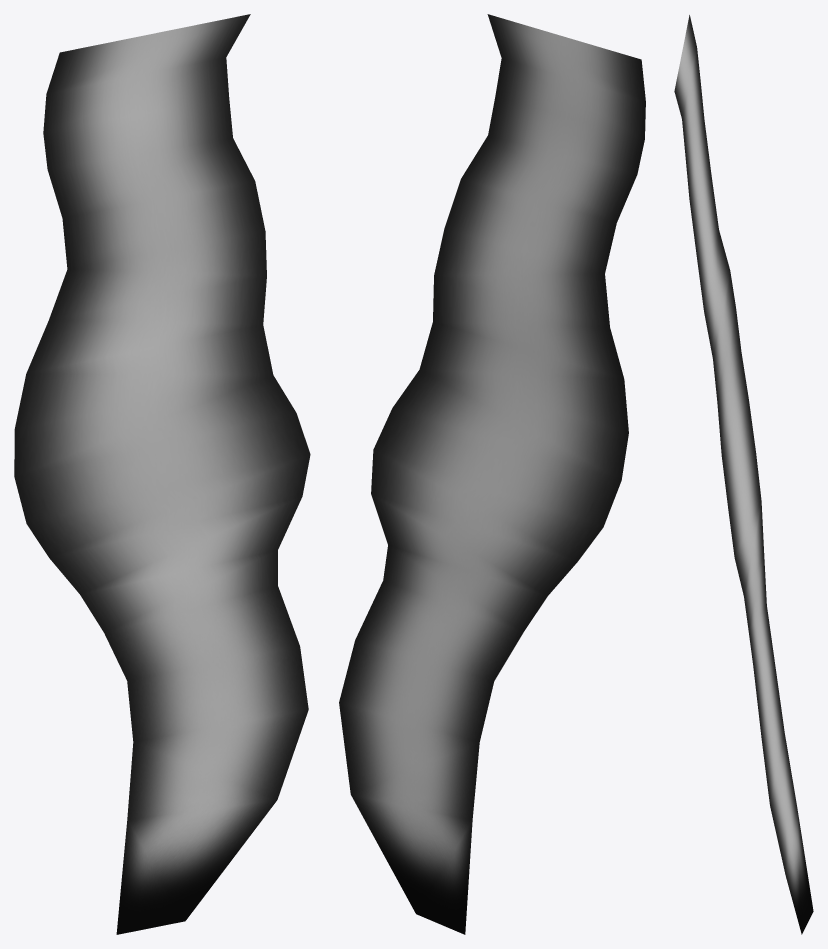
File: texiao06.FBX
3 views of the same model, side by side, from view 1: azimuth 30°, elevation 25°; view 2: azimuth 150°, elevation 25°; view 3: azimuth 270°, elevation 25° (orthographic). The views are drawn at different scales.
Visible parts, largest first — view 1: texiao06; view 2: texiao06; view 3: texiao06.
Part boxes in pixels (x1,y1,x2,y2): texiao06: [14, 14, 310, 934]; texiao06: [339, 14, 645, 934]; texiao06: [674, 15, 813, 934].
Size of the model in its own units: 14.96 by 44.47 by 6.65.
